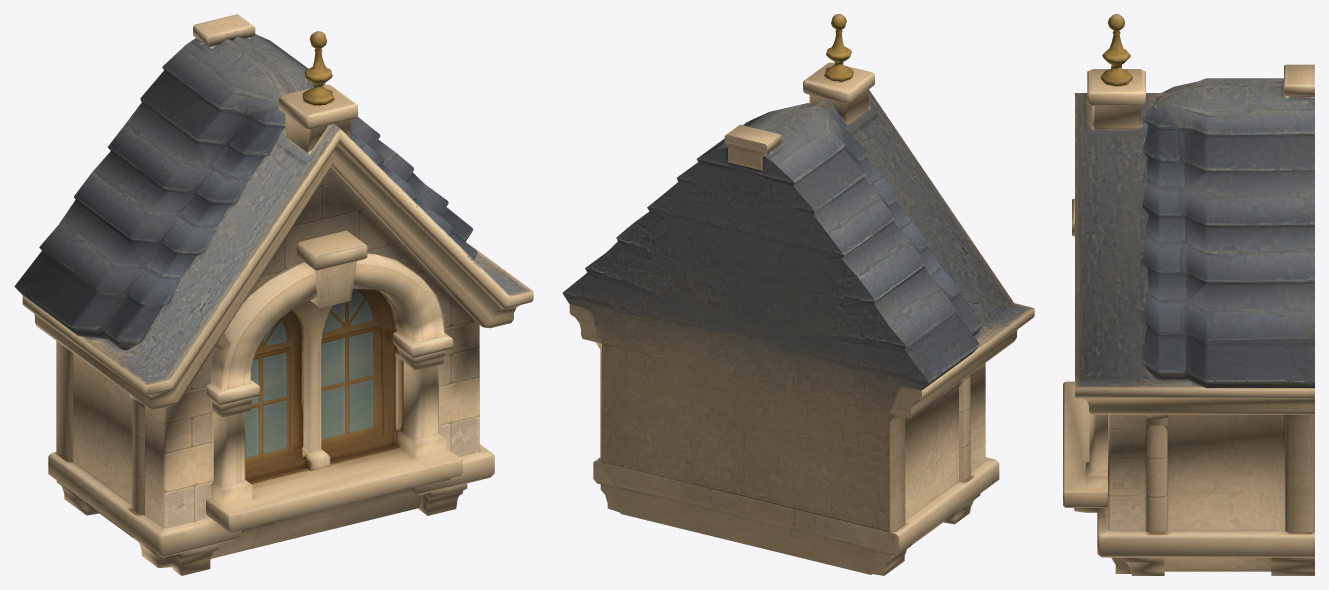
Rendered from Furn_Dormer2.fbx.
3 views of the same model, side by side, from view 1: azimuth 30°, elevation 25°; view 2: azimuth 150°, elevation 25°; view 3: azimuth 270°, elevation 25° (orthographic). The views are drawn at different scales.
Parts seen in each view (by area): view 1: Furn_Dormer2; view 2: Furn_Dormer2; view 3: Furn_Dormer2.
Boxes of the visible parts, left/top/right/bottom form: Furn_Dormer2: left=14, top=14, right=533, bottom=575; Furn_Dormer2: left=562, top=14, right=1034, bottom=575; Furn_Dormer2: left=1063, top=14, right=1314, bottom=575.
Bounding box in the file's own units: 2.07 × 2.5 × 1.15.
1 material, 1 textured.
